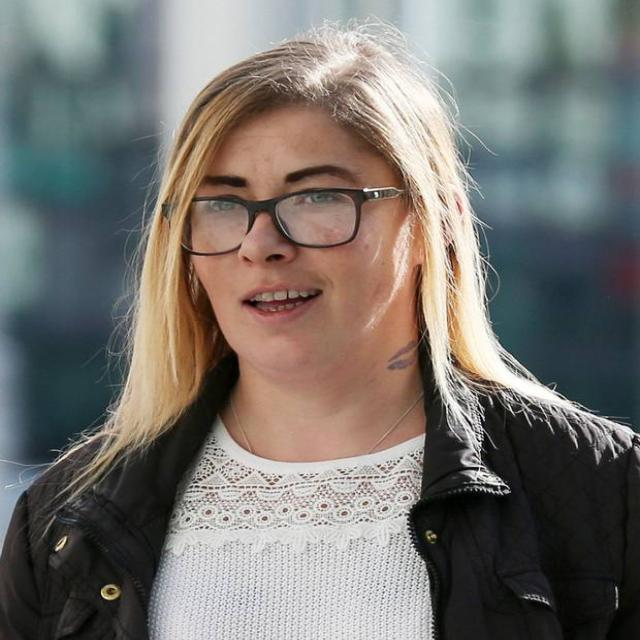human: (1, 38, 639, 640)
